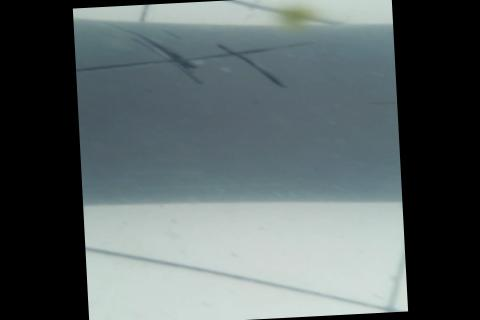keretakan: (73, 20, 319, 101)
